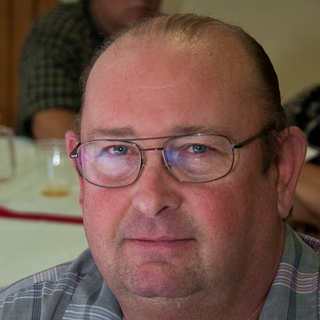eye: (176, 139, 221, 160), (96, 141, 138, 161)
